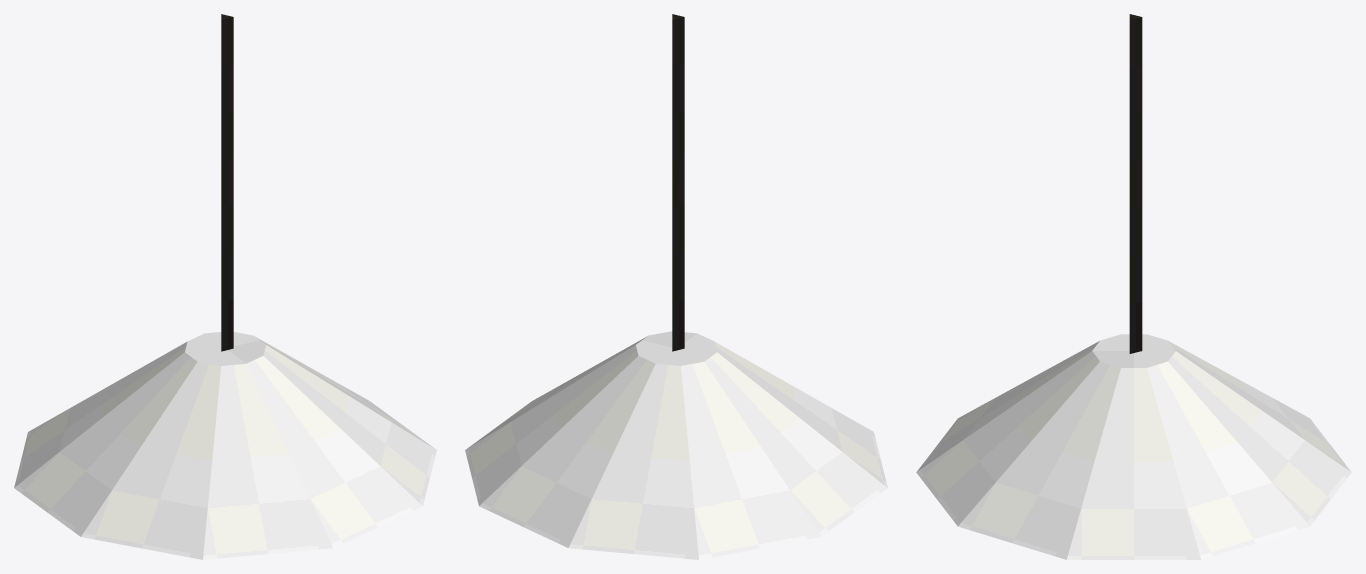
Rendered from foco_corto.obj.
The picture shows the model from 3 angles, left to right: view 1: azimuth 30°, elevation 25°; view 2: azimuth 150°, elevation 25°; view 3: azimuth 270°, elevation 25°; orthographic projection.
Parts seen in each view (by area): view 1: foco_corto; view 2: foco_corto; view 3: foco_corto.
Part boxes in pixels (<box>): foco_corto: <box>14,14,436,559</box>; foco_corto: <box>465,14,887,559</box>; foco_corto: <box>916,14,1351,559</box>.
Bounding box in the file's own units: 0.4945 × 0.65 × 0.52.
Materials: 3 (3 with a texture image).
